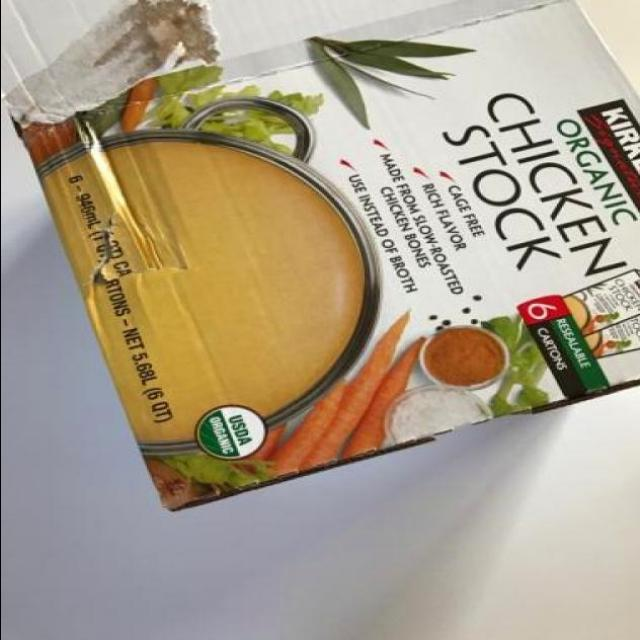cardboard paper: (7, 0, 640, 509)
